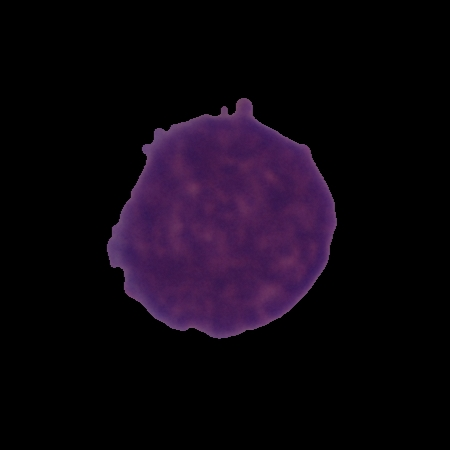HEM: (104, 94, 342, 342)
